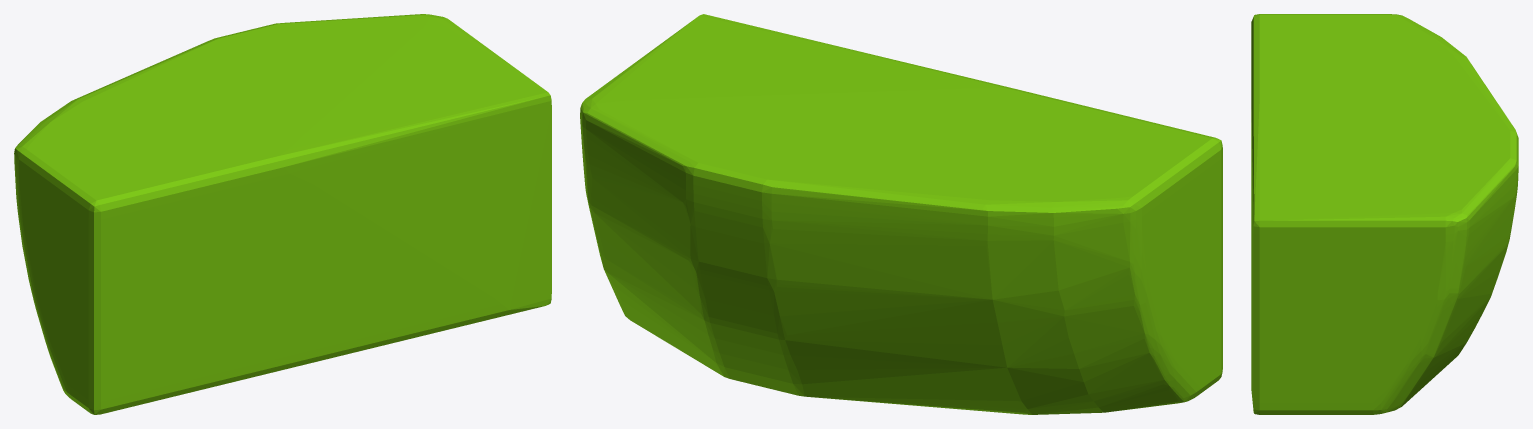
The model's file is right_hip_yaw_link_part_4.obj.
The picture shows the model from 3 angles, left to right: view 1: azimuth 30°, elevation 25°; view 2: azimuth 150°, elevation 25°; view 3: azimuth 270°, elevation 25°; orthographic projection. The views are drawn at different scales.
Bounding box in the file's own units: 0.0752 × 0.0333 × 0.0407.
